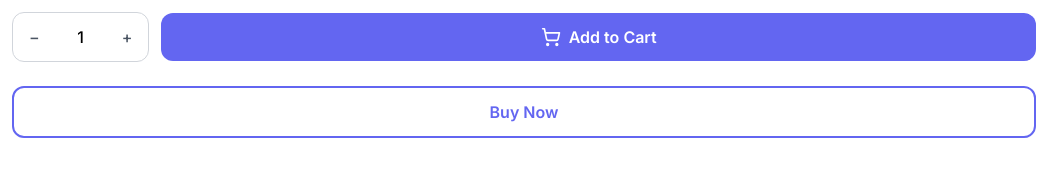
Test: ProductActions › increments quantity when the + button is clicked
This screenshot has width=1048, height=172.
Click the button "+": (127, 37) [106,13,148,61]
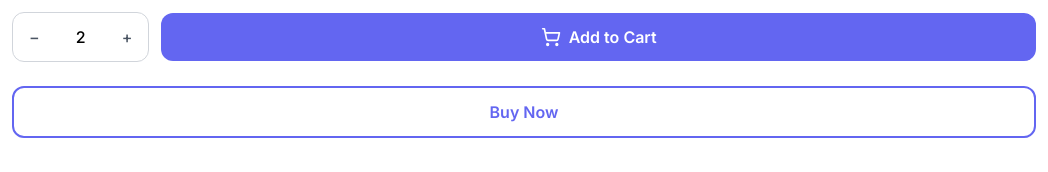
Check: the text "2" is shown, box [76,27,86,47]
